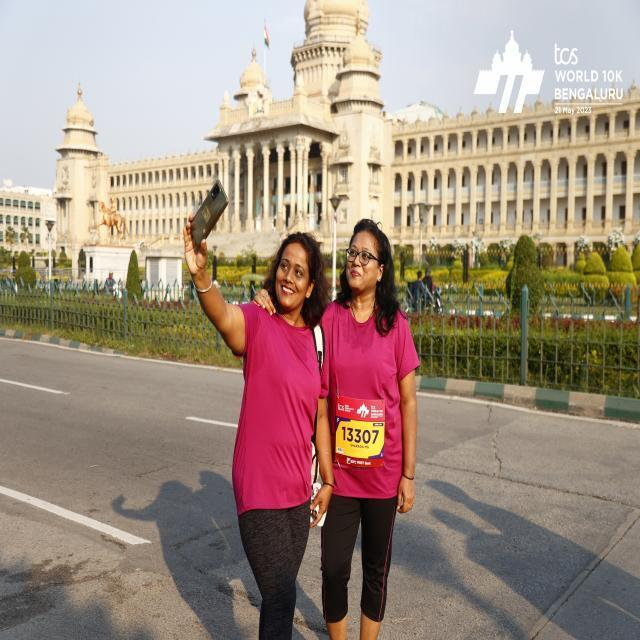dorsal: (335, 392, 388, 468)
